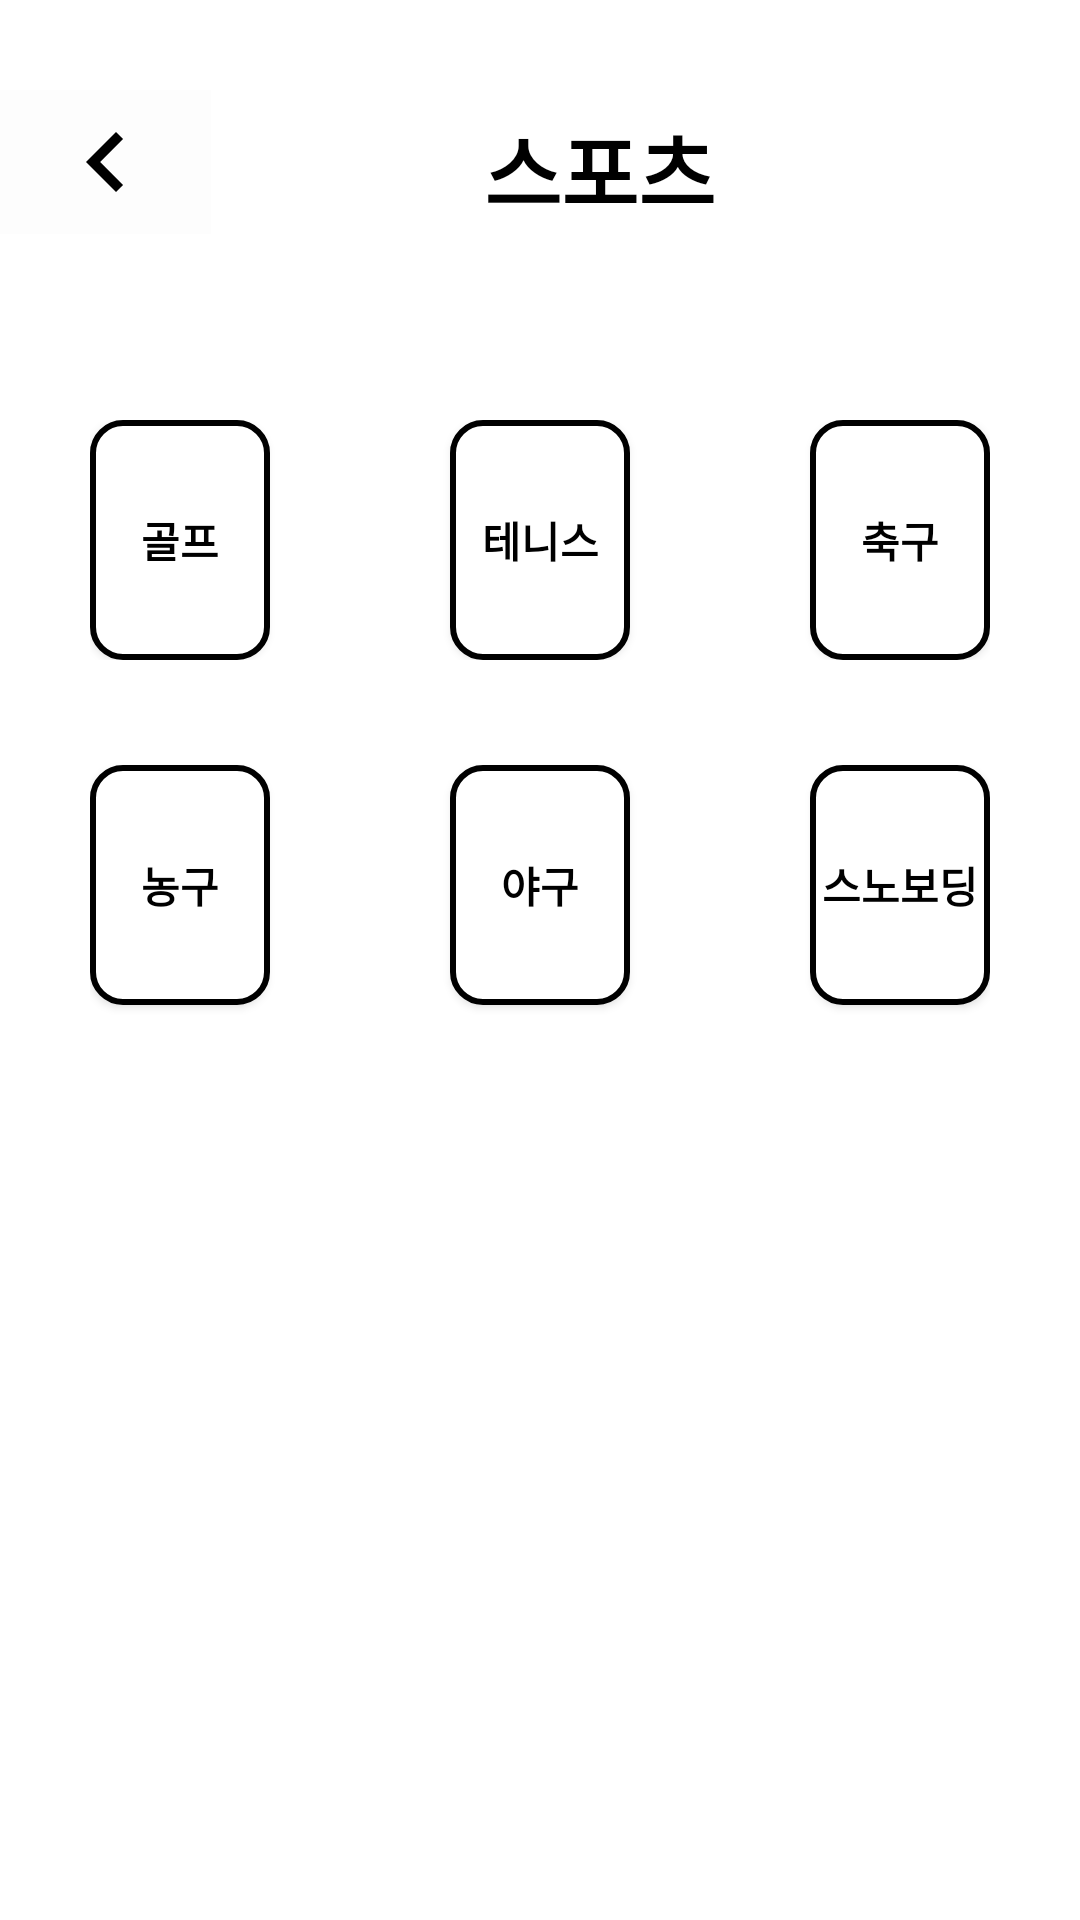

Where to tap for icons on this 1080*1920 app screen, as (x,y):
navigate before: (104,162)
